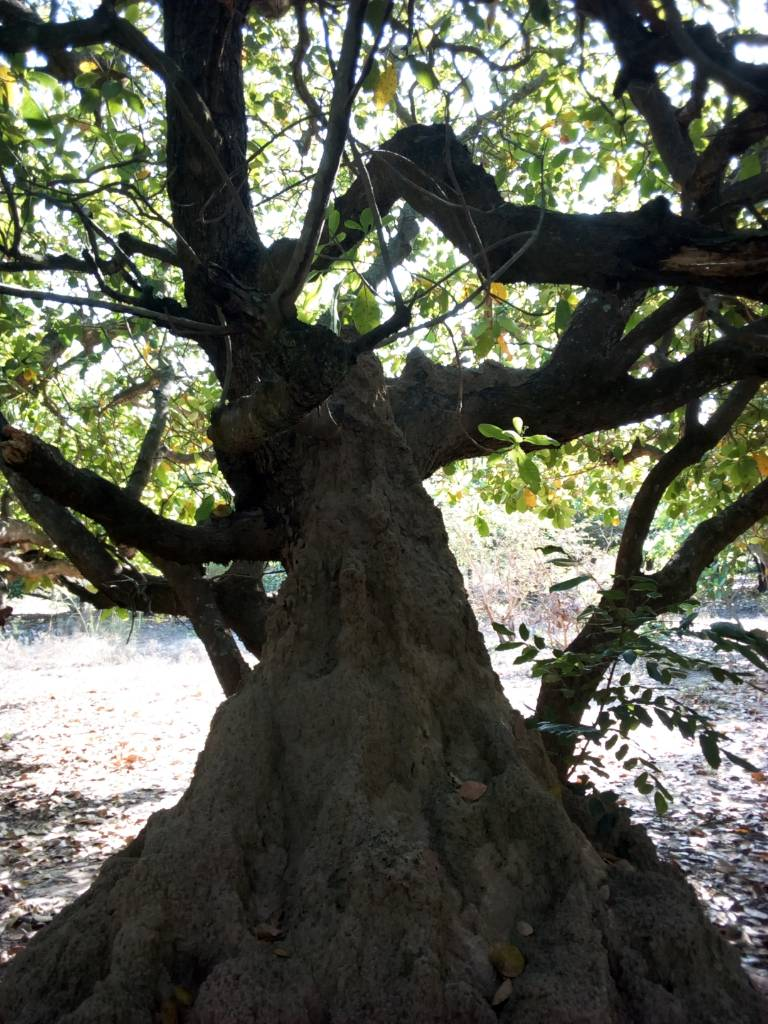Virose: (7, 344, 739, 1024)
